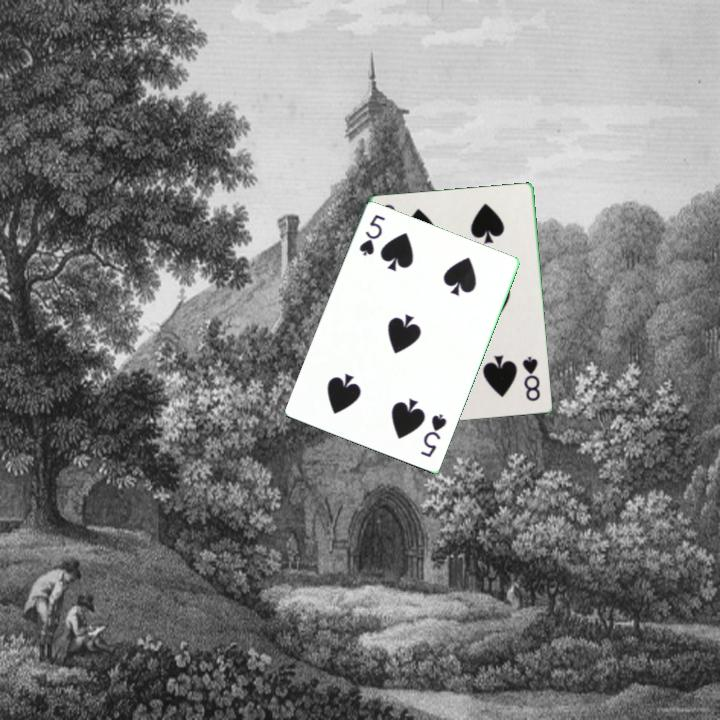5s: (417, 411, 450, 461), (356, 211, 388, 259)
8s: (519, 353, 543, 404)
